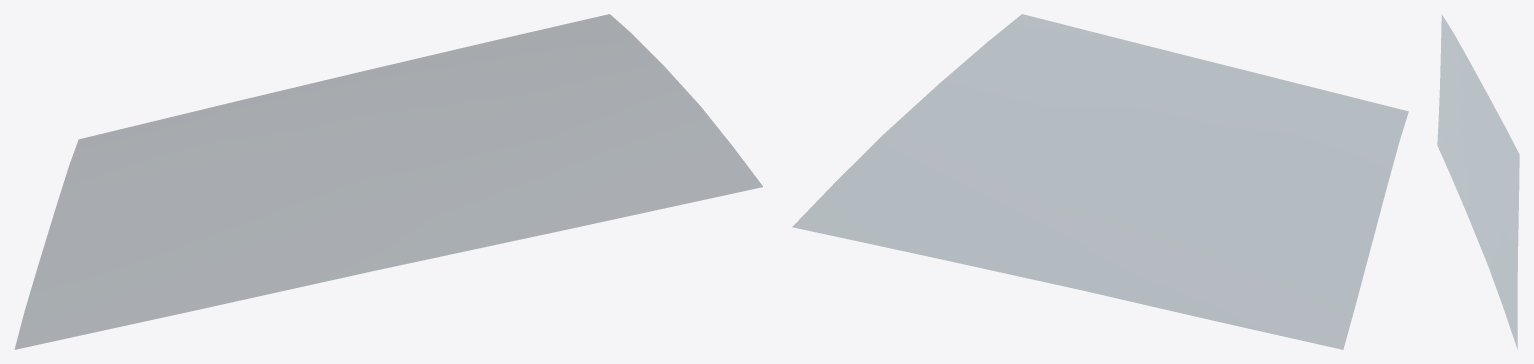
The picture shows the model from 3 angles, left to right: view 1: azimuth 30°, elevation 25°; view 2: azimuth 150°, elevation 25°; view 3: azimuth 270°, elevation 25°; orthographic projection. The views are drawn at different scales.
Parts seen in each view (by area): view 1: SM_MiniCooper_Door_FL_Glass_Int1; view 2: SM_MiniCooper_Door_FL_Glass_Int1; view 3: SM_MiniCooper_Door_FL_Glass_Int1.
Boxes of the visible parts, box(x1,y1,x2,y2) form: SM_MiniCooper_Door_FL_Glass_Int1: box(15, 14, 762, 349); SM_MiniCooper_Door_FL_Glass_Int1: box(793, 14, 1408, 349); SM_MiniCooper_Door_FL_Glass_Int1: box(1437, 15, 1519, 348).
Bounding box in the file's own units: 1.22 × 0.4421 × 0.2247.
